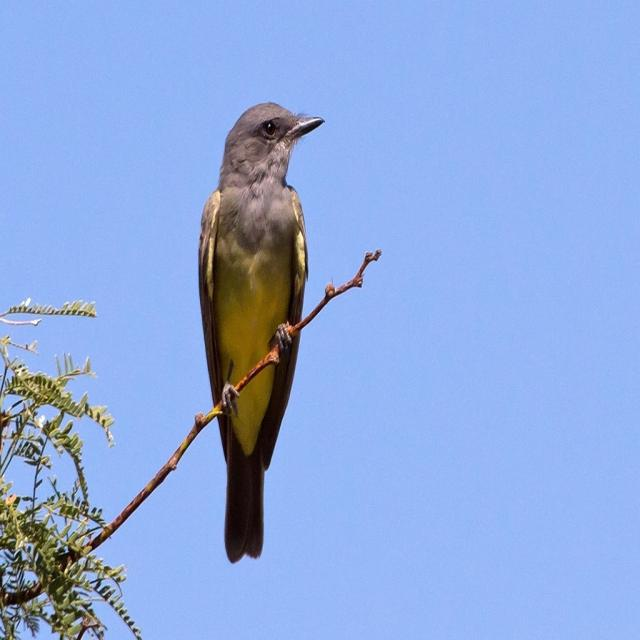bird: (194, 100, 326, 563)
